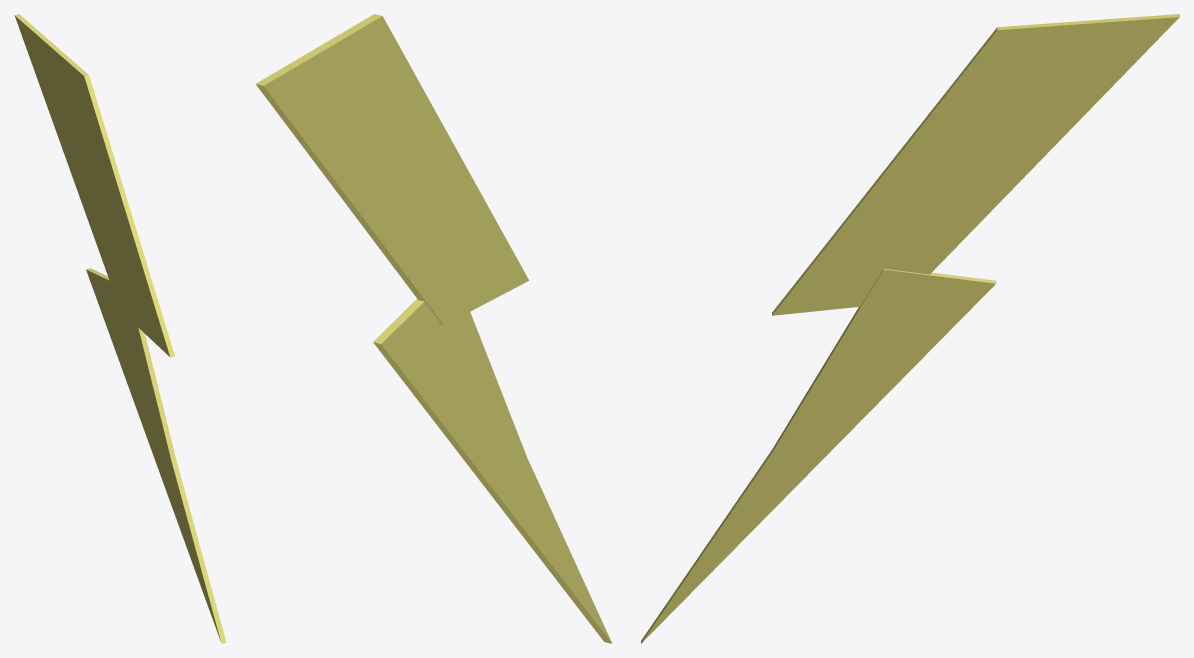
The model's file is speed up.fbx.
3 renders of one model, left to right at view 1: azimuth 30°, elevation 25°; view 2: azimuth 150°, elevation 25°; view 3: azimuth 270°, elevation 25°, orthographic. The views are drawn at different scales.
Visible parts, largest first — view 1: polySurface4; view 2: polySurface4; view 3: polySurface4.
Part boxes in pixels (<box>): polySurface4: <box>14,14,226,643</box>; polySurface4: <box>256,14,612,643</box>; polySurface4: <box>641,14,1179,643</box>.
Bounding box in the file's own units: 0.0946 × 7.07 × 5.52.
